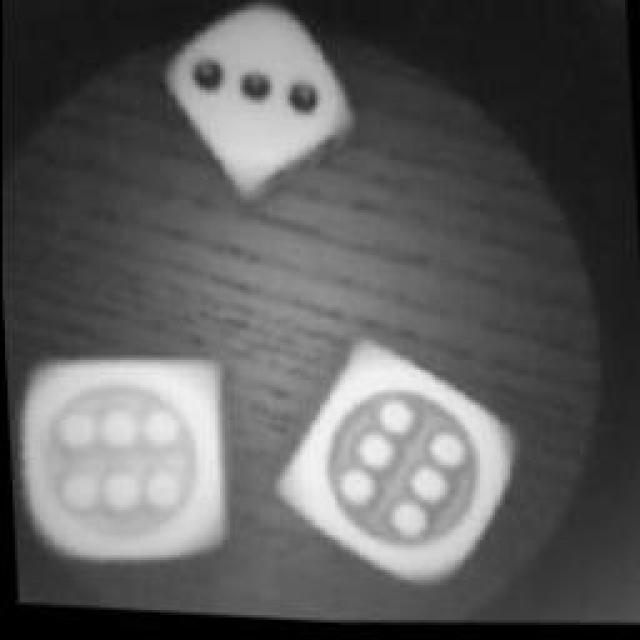dice_3: (154, 2, 351, 210)
dice_6: (265, 336, 525, 602), (10, 340, 245, 590)
